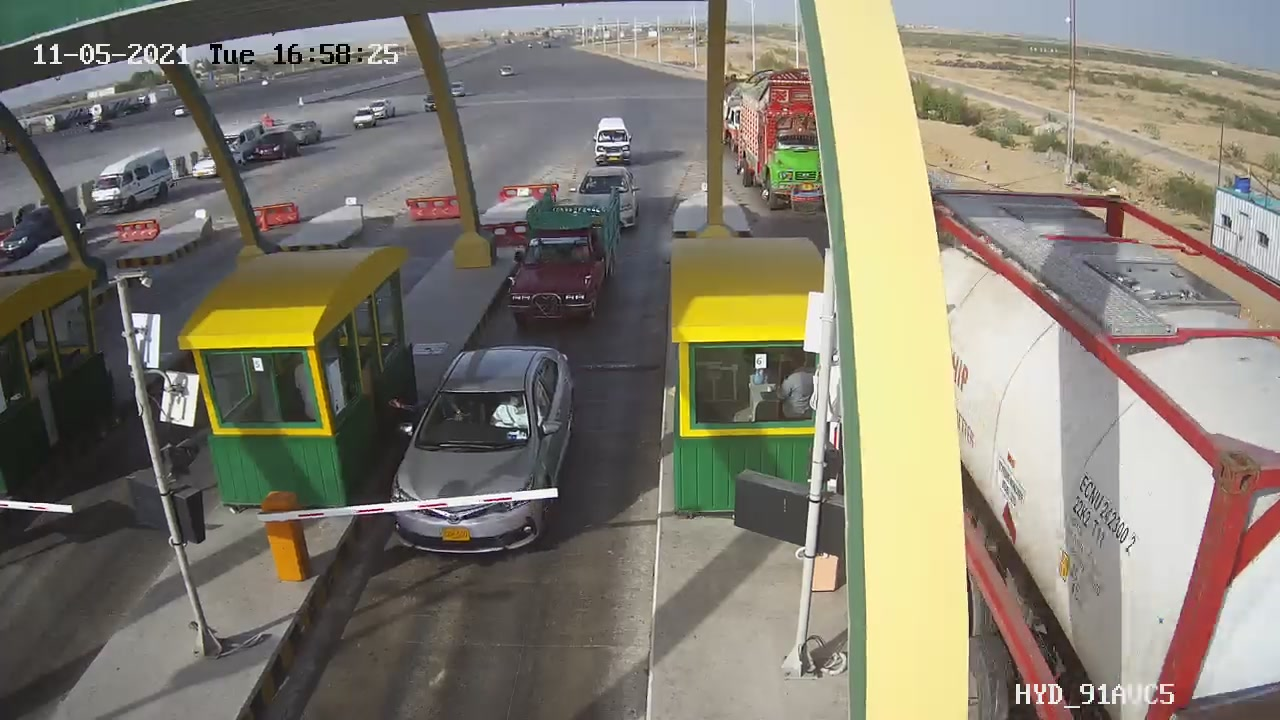F1: (371, 329, 601, 573)
